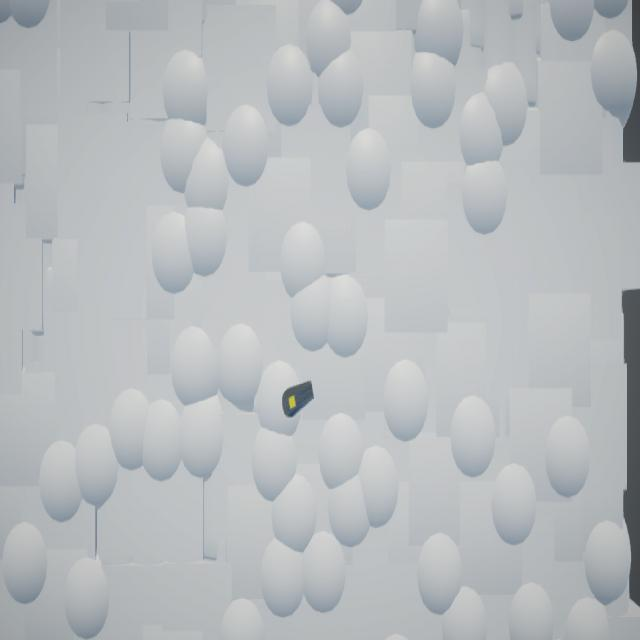handle_folk: (283, 381, 315, 419)
